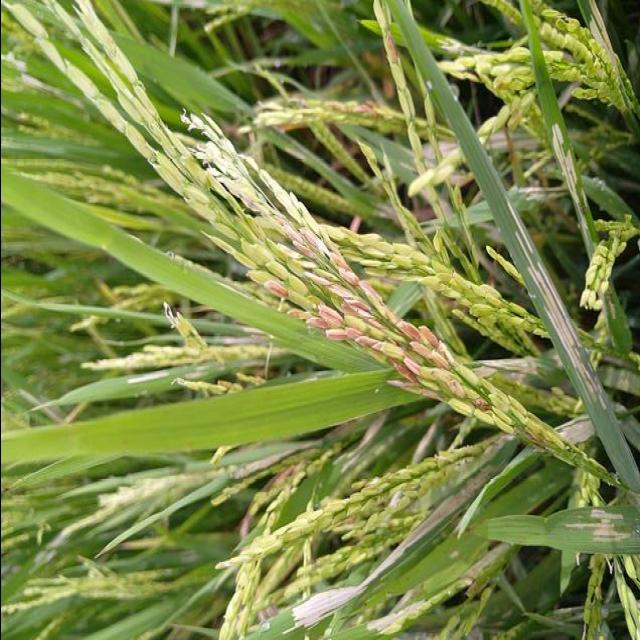Leaf Streak: (505, 200, 605, 407), (551, 125, 594, 257), (588, 0, 619, 82), (563, 508, 631, 539), (126, 368, 171, 385)
Panicle Blight: (329, 253, 359, 288), (341, 297, 371, 323), (389, 358, 417, 383), (300, 227, 324, 255), (417, 324, 440, 350), (523, 429, 547, 453), (325, 284, 361, 300), (319, 305, 344, 327), (279, 222, 302, 245), (414, 387, 445, 403), (409, 340, 433, 360), (353, 335, 385, 350), (302, 315, 330, 331), (386, 379, 423, 391), (358, 280, 380, 300), (397, 321, 421, 339), (324, 327, 357, 340), (304, 272, 333, 286), (293, 242, 314, 261), (264, 281, 288, 297), (385, 488, 404, 507), (403, 355, 421, 375), (383, 304, 401, 323), (448, 379, 465, 399), (430, 352, 450, 368), (438, 340, 451, 364), (364, 317, 382, 331), (289, 309, 308, 321), (475, 399, 492, 411), (216, 379, 231, 389), (341, 518, 352, 524)
